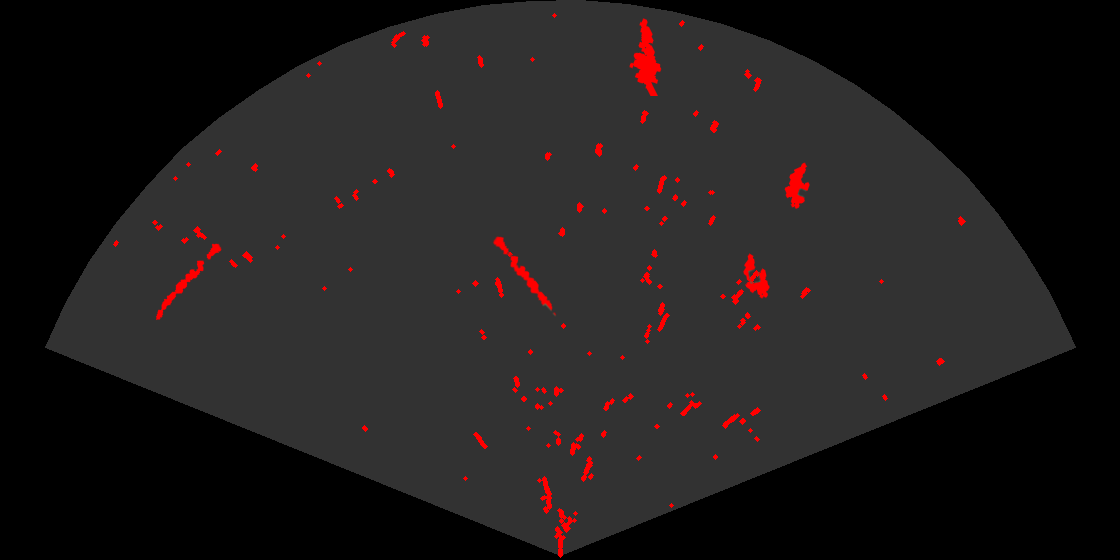AUV: (783, 161, 811, 211), (742, 252, 771, 300)
chain: (154, 242, 223, 322), (491, 235, 558, 317)
frogman: (628, 17, 663, 96)
